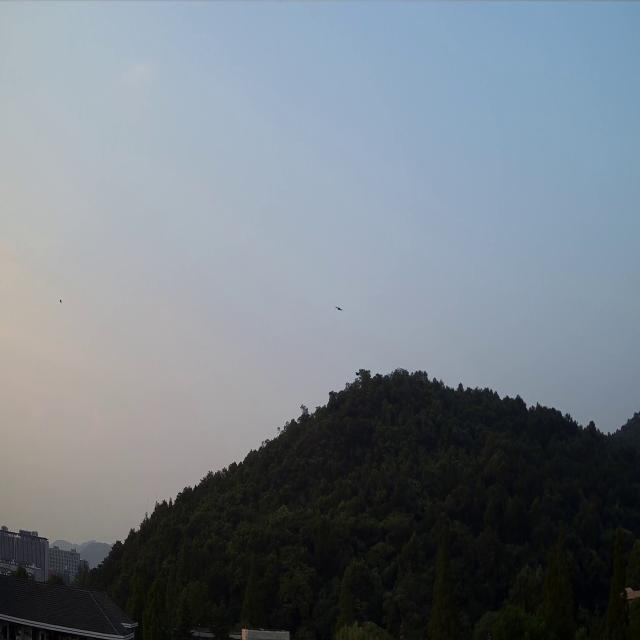UAV: (335, 304, 343, 312)
